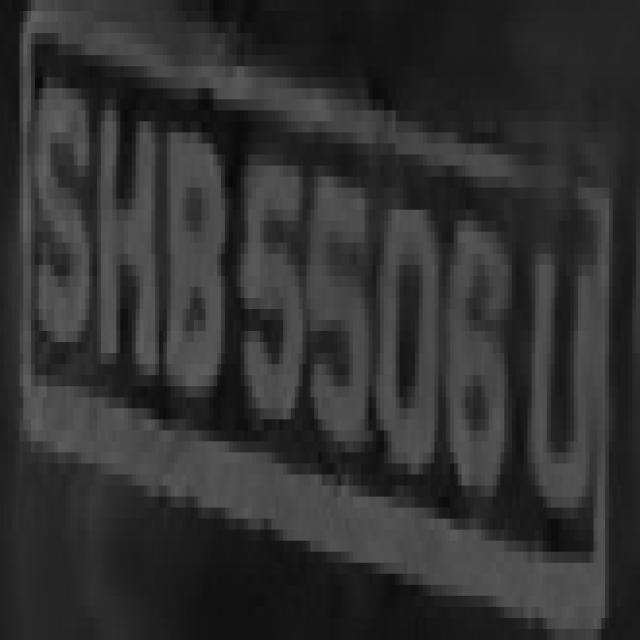0: (365, 110, 438, 519)
5: (299, 100, 376, 486), (240, 100, 310, 463)
6: (438, 176, 520, 530)
B: (155, 110, 225, 474)
H: (81, 78, 167, 442)
S: (27, 0, 89, 397)
U: (524, 154, 601, 563)
